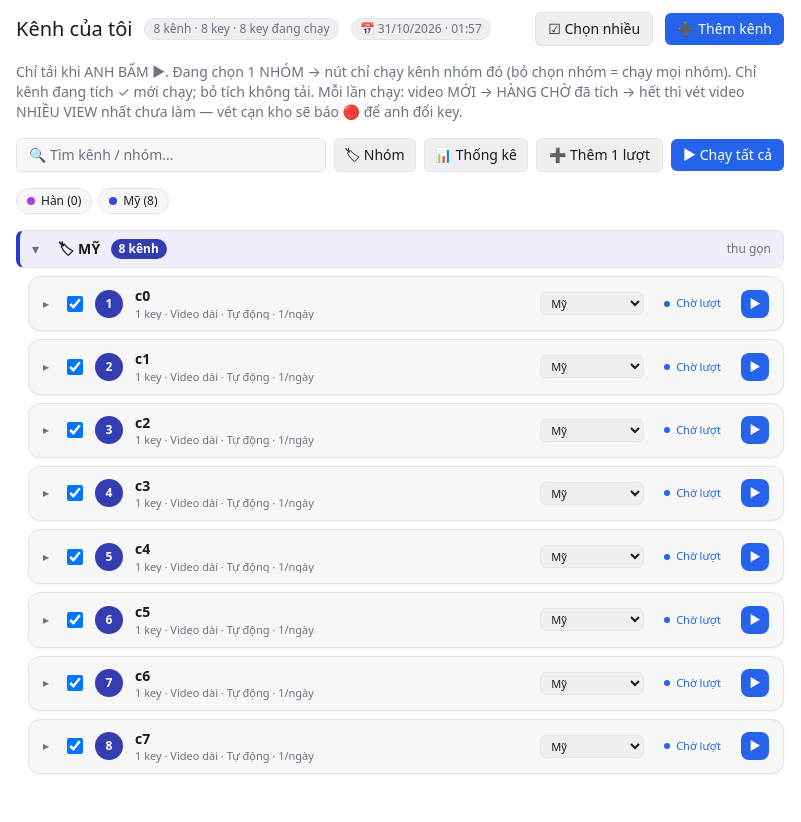
Scenario: Nút ➕ Thêm 1 lượt (trang Theo dõi) › bấm ⏹ Dừng giữa lượt → NGỪNG, không chạy hết danh sách
Click the button titled "TẢI THÊM 1 VIDEO cho MỖI kênh" at (599, 155), box x1=536 y1=138 x2=663 y2=172
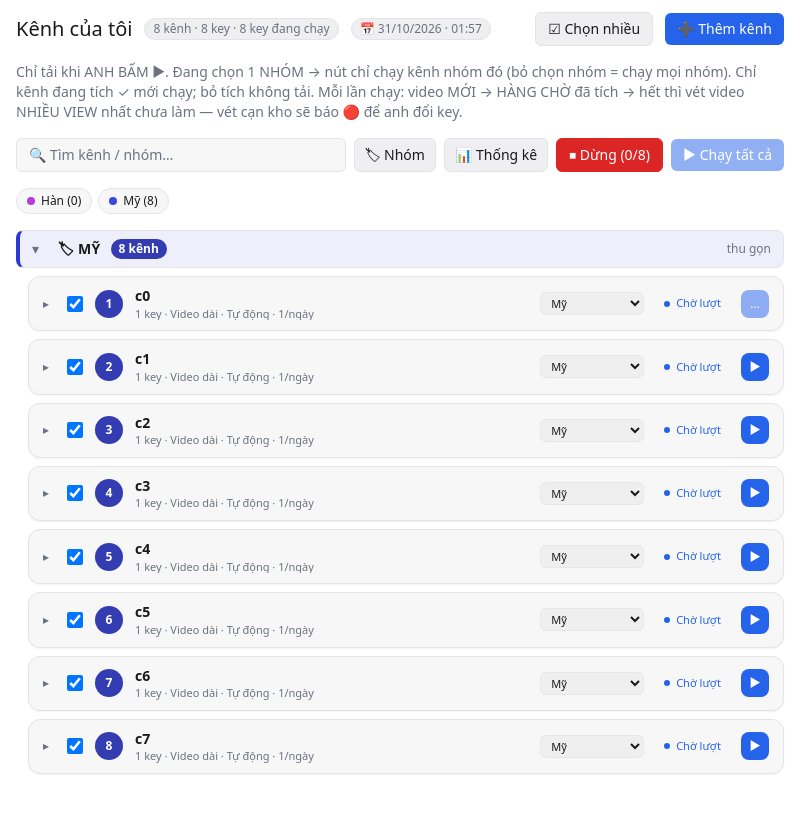
Check: the button titled "TẢI THÊM 1 VIDEO cho MỖI kênh" shows "Dừng"
Click the button titled "TẢI THÊM 1 VIDEO cho MỖI kênh" at (610, 155), box x1=556 y1=138 x2=663 y2=172
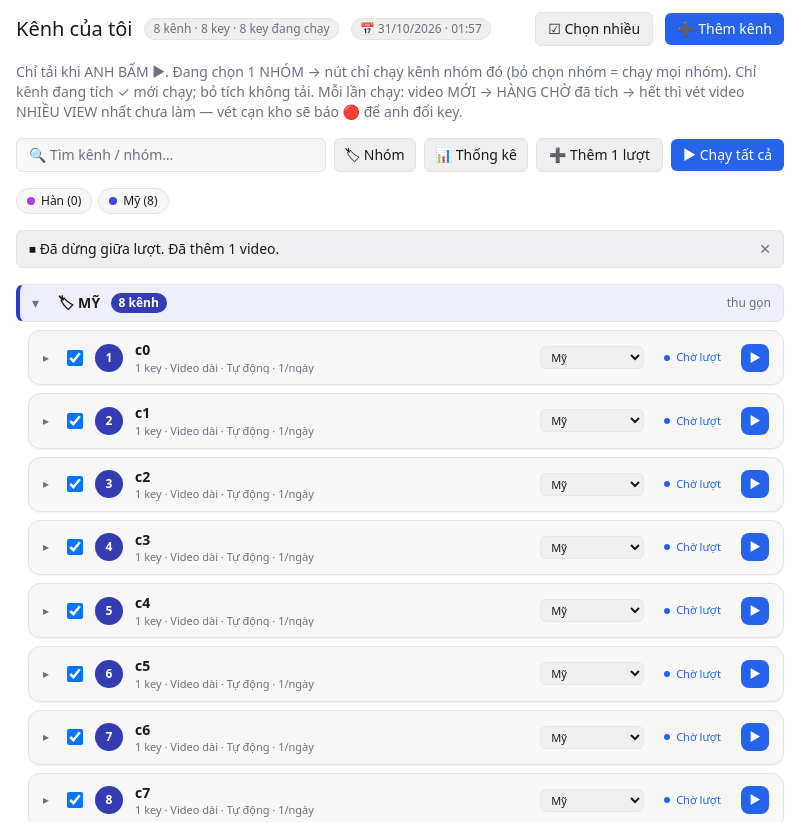
Check: the button titled "TẢI THÊM 1 VIDEO cho MỖI kênh" shows "Thêm 1 lượt", box x1=536 y1=138 x2=663 y2=172
Check: the text "⏹ Đã dừng giữa lượt. Đã thêm 1 video." is shown, box x1=29 y1=239 x2=279 y2=258
